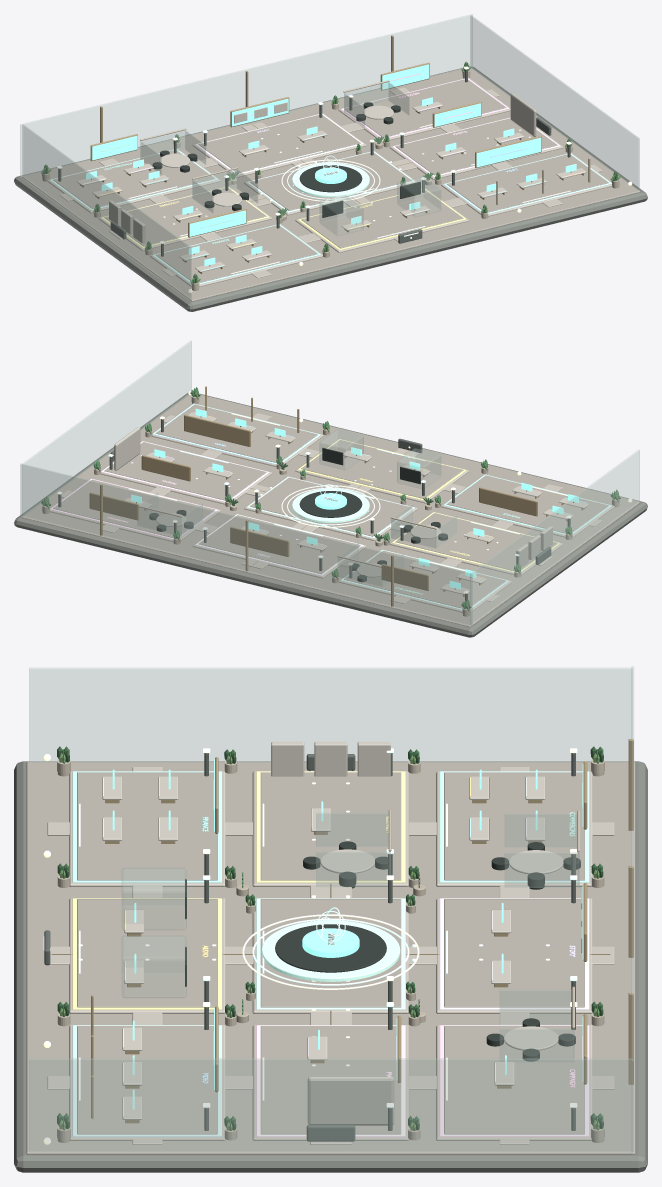
Rendered from nyoni_company_campus_v05.glb.
3 views of the same model, one above another, from view 1: azimuth 30°, elevation 25°; view 2: azimuth 150°, elevation 25°; view 3: azimuth 270°, elevation 25° (orthographic). The views are drawn at different scales.
Visible parts, largest first — view 1: GLASS_BACK, HQ_MAIN_FLOOR, GLASS_LEFT, GLASS_RIGHT, HQ_FOUNDATION, ZONE_INNER_STORY, ZONE_INNER_AUDIO, ZONE_INNER_VIDEO, ZONE_INNER_FINANCE, ZONE_INNER_COMMERCIALS, ZONE_INNER_CAMPAIGN, ZONE_INNER_PHOTO (+38 smaller); view 2: GLASS_BACK, HQ_MAIN_FLOOR, GLASS_LEFT, GLASS_RIGHT, HQ_FOUNDATION, ZONE_INNER_AUDIO, ZONE_INNER_RESEARCH, ZONE_INNER_PHOTO, ZONE_INNER_STORY, ZONE_INNER_FINANCE, ZONE_INNER_VIDEO, ZONE_INNER_CAMPAIGN (+38 smaller); view 3: HQ_MAIN_FLOOR, GLASS_RIGHT, GLASS_LEFT, HQ_FOUNDATION, ZONE_INNER_AUDIO, ZONE_INNER_STORY, ZONE_INNER_VIDEO, ZONE_INNER_FINANCE, ZONE_INNER_CAMPAIGN, ZONE_INNER_RESEARCH, ZONE_INNER_COMMERCIALS, ZONE_INNER_PHOTO (+47 smaller).
Part boxes in pixels (bbox=[...]): GLASS_BACK: bbox=[20, 14, 472, 176]; HQ_MAIN_FLOOR: bbox=[22, 68, 639, 301]; GLASS_LEFT: bbox=[22, 124, 191, 299]; GLASS_RIGHT: bbox=[470, 15, 639, 190]; HQ_FOUNDATION: bbox=[14, 66, 647, 311]; ZONE_INNER_STORY: bbox=[198, 115, 360, 172]; ZONE_INNER_AUDIO: bbox=[301, 190, 463, 248]; ZONE_INNER_VIDEO: bbox=[447, 154, 608, 212]; ZONE_INNER_FINANCE: bbox=[156, 225, 317, 282]; ZONE_INNER_COMMERCIALS: bbox=[53, 150, 214, 208]; ZONE_INNER_CAMPAIGN: bbox=[344, 79, 506, 137]; ZONE_INNER_PHOTO: bbox=[395, 118, 557, 175]; GLASS_BACK: bbox=[20, 463, 472, 625]; HQ_MAIN_FLOOR: bbox=[22, 394, 639, 626]; GLASS_LEFT: bbox=[470, 450, 639, 624]; GLASS_RIGHT: bbox=[22, 340, 191, 515]; HQ_FOUNDATION: bbox=[14, 393, 647, 637]; ZONE_INNER_AUDIO: bbox=[301, 440, 463, 498]; ZONE_INNER_RESEARCH: bbox=[395, 513, 557, 570]; ZONE_INNER_PHOTO: bbox=[104, 442, 266, 500]; ZONE_INNER_STORY: bbox=[199, 515, 360, 573]; ZONE_INNER_FINANCE: bbox=[446, 475, 608, 533]; ZONE_INNER_VIDEO: bbox=[155, 404, 317, 462]; ZONE_INNER_CAMPAIGN: bbox=[53, 479, 214, 537]; HQ_MAIN_FLOOR: bbox=[26, 762, 635, 1154]; GLASS_RIGHT: bbox=[29, 1058, 632, 1152]; GLASS_LEFT: bbox=[29, 668, 632, 761]; HQ_FOUNDATION: bbox=[14, 761, 647, 1172]; ZONE_INNER_AUDIO: bbox=[77, 899, 217, 1007]; ZONE_INNER_STORY: bbox=[444, 899, 584, 1007]; ZONE_INNER_VIDEO: bbox=[77, 1026, 217, 1134]; ZONE_INNER_FINANCE: bbox=[77, 772, 217, 880]; ZONE_INNER_CAMPAIGN: bbox=[444, 1026, 584, 1134]; ZONE_INNER_RESEARCH: bbox=[260, 772, 401, 880]; ZONE_INNER_COMMERCIALS: bbox=[444, 772, 584, 880]; ZONE_INNER_PHOTO: bbox=[260, 1026, 401, 1134].
Size of the model in its own units: 57 by 7.4 by 38.
